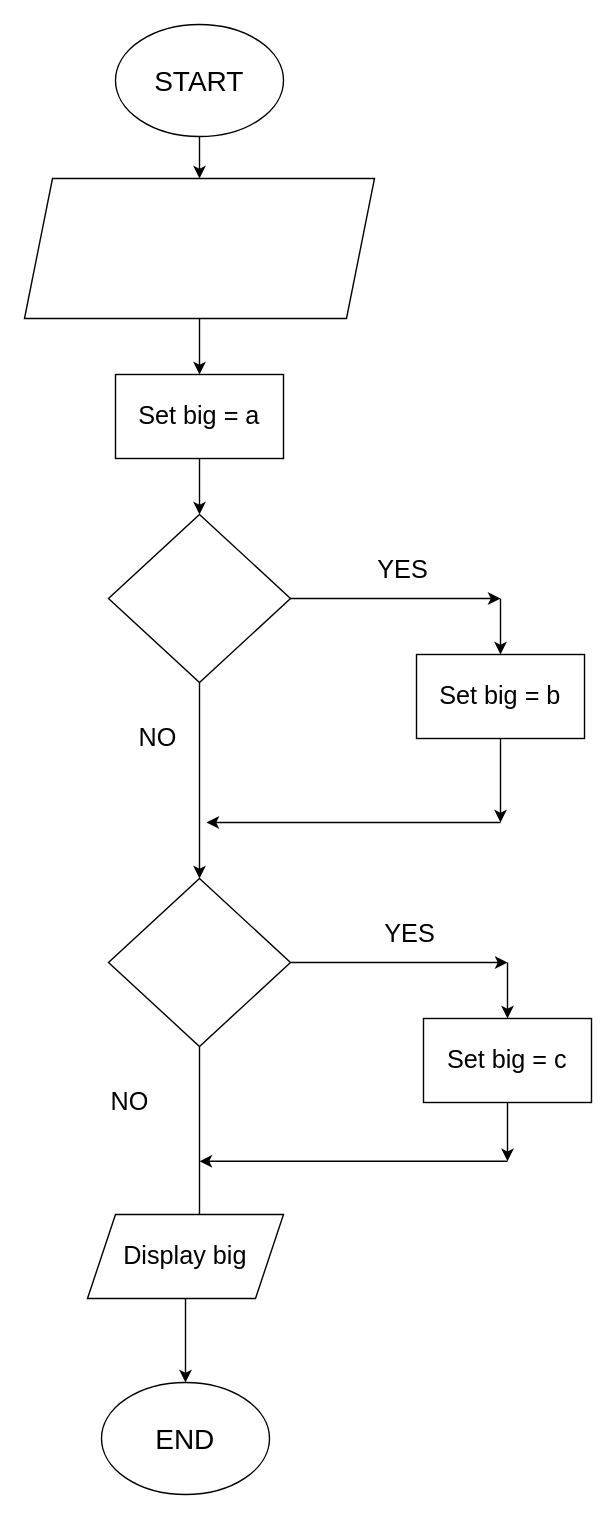
Some shapes in this 616 by 1519 pixel diagram are drawn without their labels. The shapes that lost their labels are listed below. From the top down, each one's centre as x and y in pixels, then its label:
At (x=198, y=247): "Read Numbers a, b, c".
At (x=198, y=597): "If b > big".
At (x=198, y=961): "If c > big".
